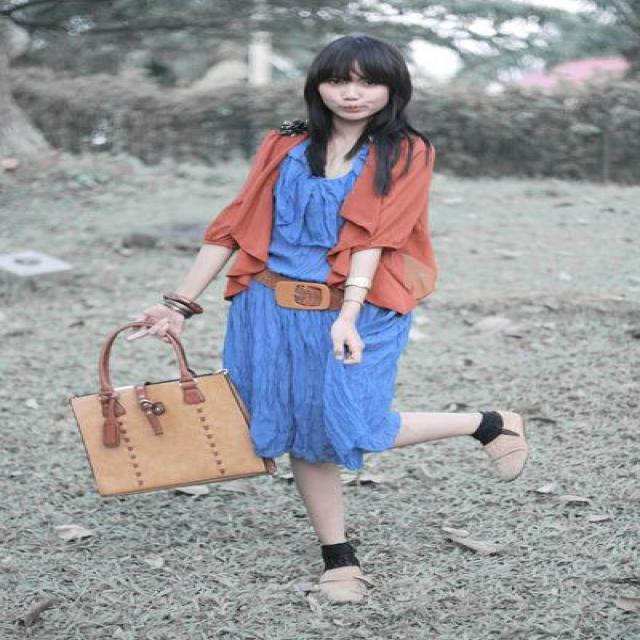bag: (72, 326, 264, 493)
dress: (222, 141, 412, 469)
shirt: (205, 129, 440, 315)
shoe: (316, 408, 534, 600)
